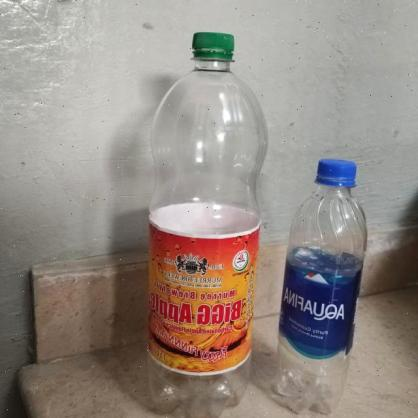bottle: (150, 31, 272, 414), (282, 158, 372, 408)
cap: (193, 29, 235, 65), (315, 158, 359, 189)
label: (153, 223, 255, 369), (284, 261, 365, 350)
